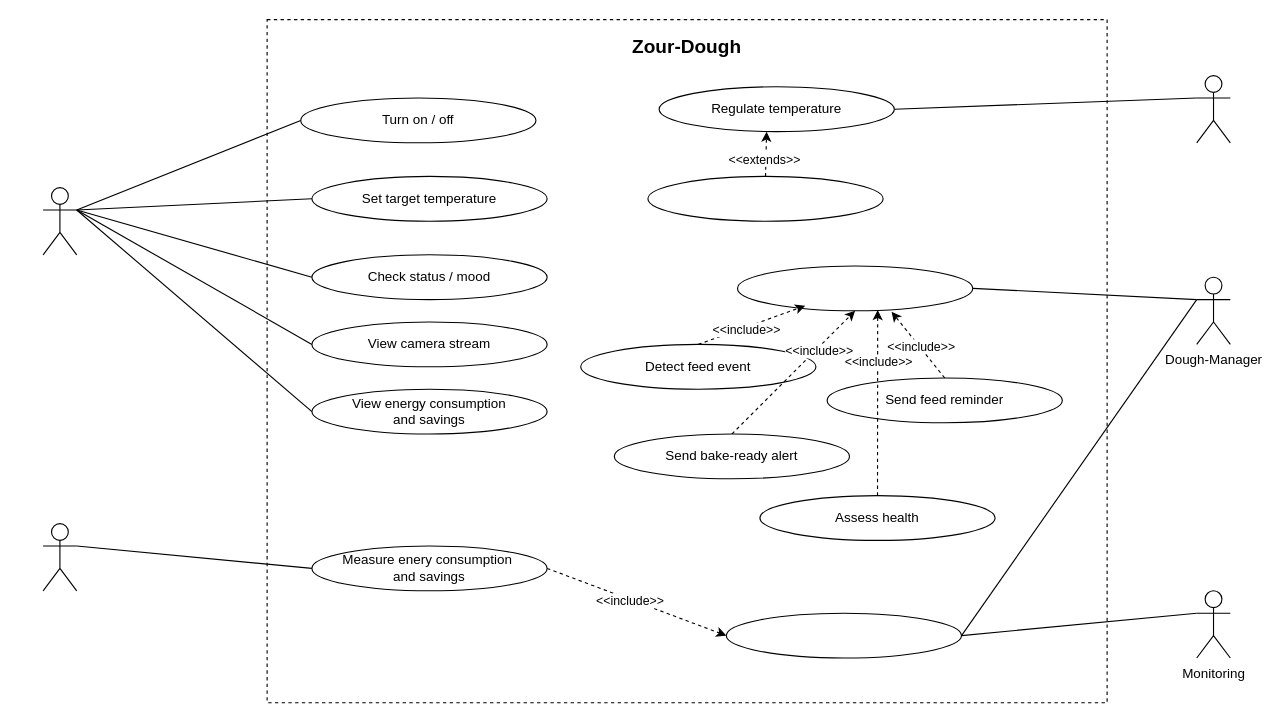
This 1281x722 diagram has some shape labels left out. Each missing label, with the centre of its shape:
Baker: point (59, 220)
Energy Meter: point (59, 556)
Enforce fail-safe: point (765, 198)
Estimate fermentation phase: point (854, 288)
Log data: point (843, 635)
Temperature Manager: point (1213, 108)
